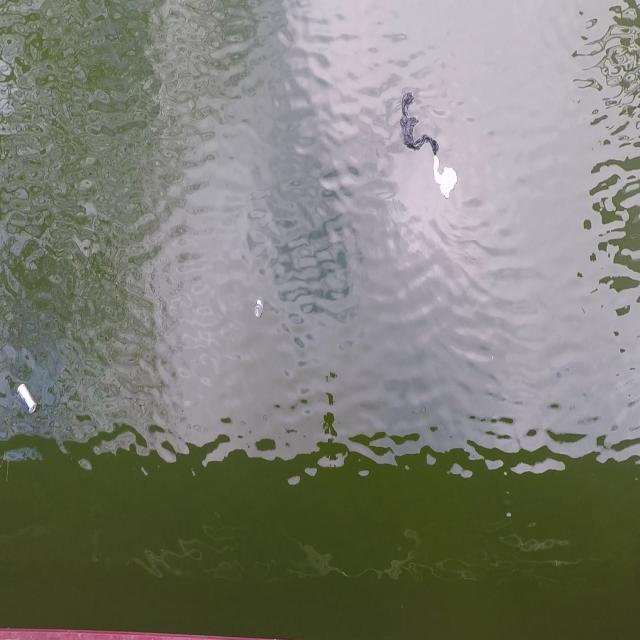Non plastique: (15, 378, 40, 418)
Sac plastique: (396, 86, 439, 157), (426, 156, 462, 202)
